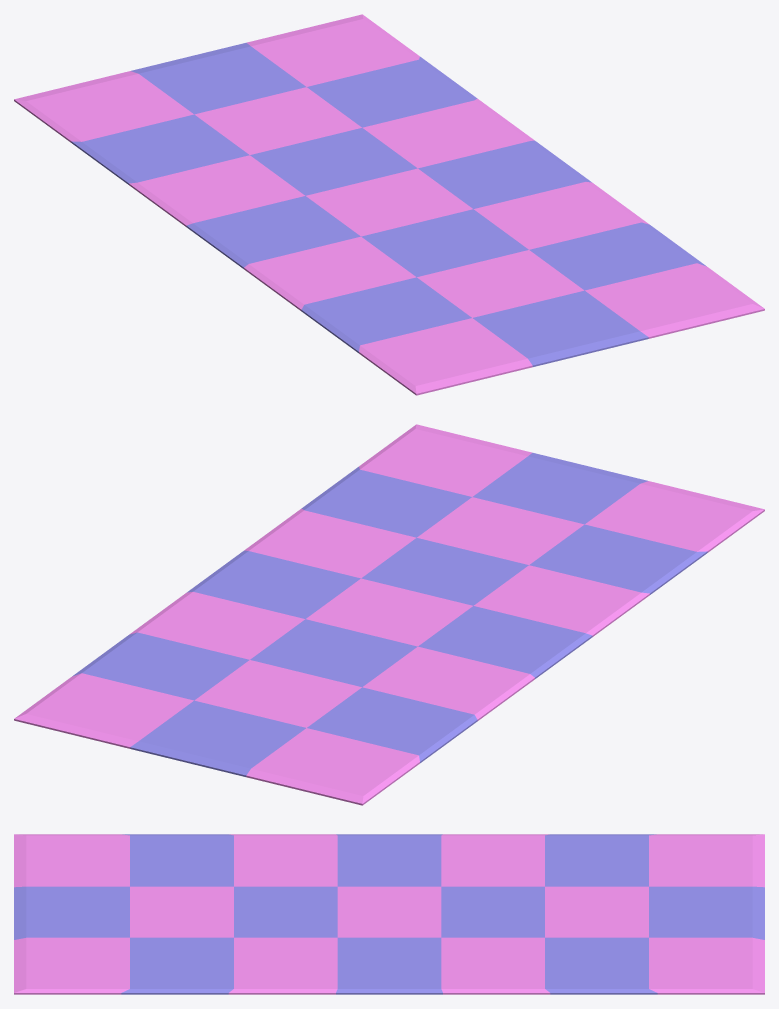
Rendered from Rug_Rectangle_01.glb.
3 views of the same model, one above another, from view 1: azimuth 30°, elevation 25°; view 2: azimuth 150°, elevation 25°; view 3: azimuth 270°, elevation 25° (orthographic). The views are drawn at different scales.
Parts seen in each view (by area): view 1: Rug_Rectangle; view 2: Rug_Rectangle; view 3: Rug_Rectangle.
Part boxes in pixels (bbox=[...]): Rug_Rectangle: bbox=[14, 14, 764, 395]; Rug_Rectangle: bbox=[14, 424, 764, 805]; Rug_Rectangle: bbox=[14, 834, 764, 994].
Bounding box in the file's own units: 2.07 × 0.0188 × 4.14.
1 material, 1 textured.
